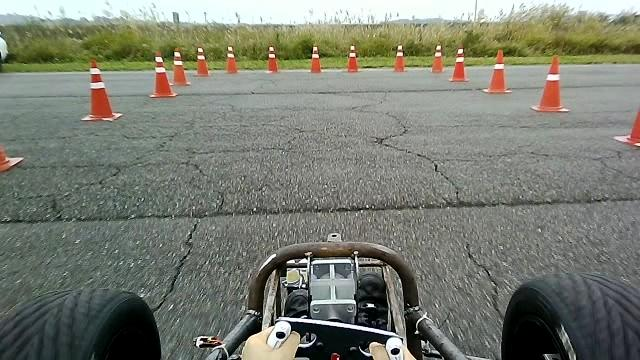red cone: (80, 58, 122, 121), (482, 49, 512, 94), (148, 50, 176, 97), (169, 47, 190, 86), (448, 45, 468, 82), (193, 46, 210, 76), (392, 44, 407, 72), (346, 44, 359, 72), (309, 45, 322, 73), (225, 45, 238, 73), (266, 45, 279, 73), (431, 44, 443, 72)
yellow cone: (530, 54, 570, 112)
